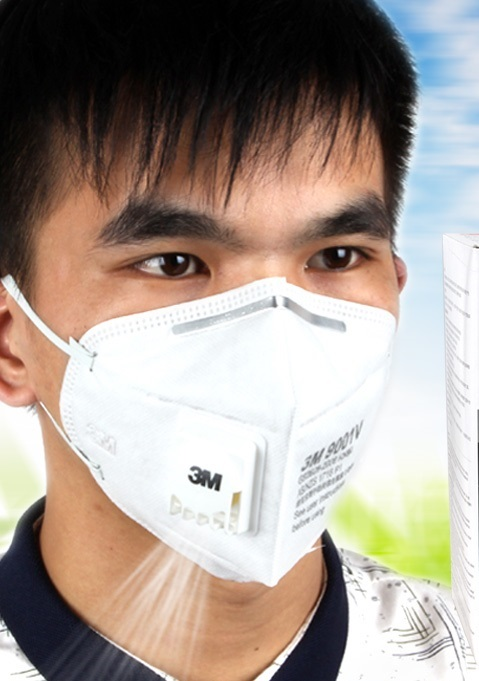face_mask: (38, 54, 405, 587)
